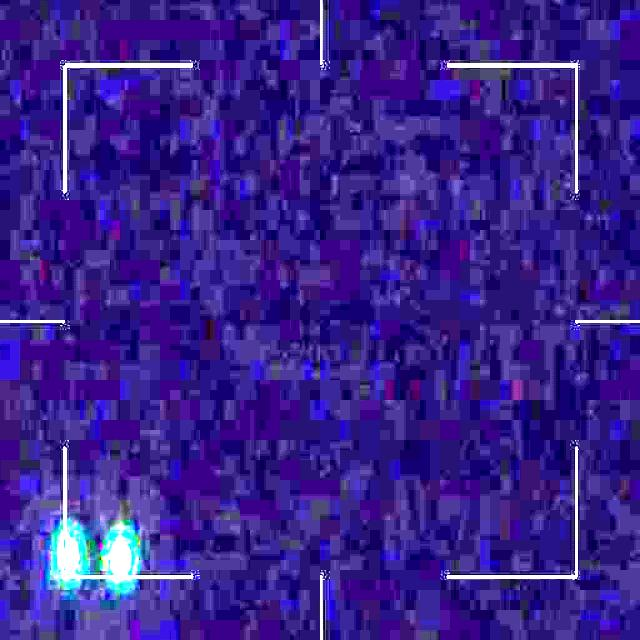bird: (56, 529, 134, 581)
